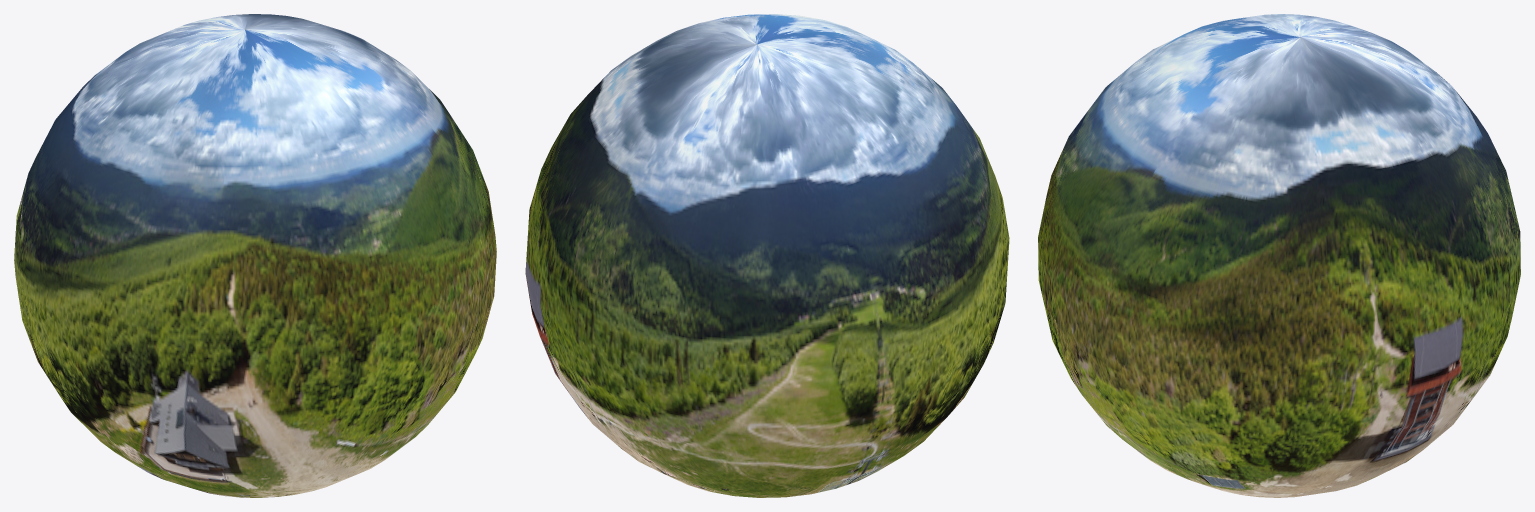
File: 360_panorama_12_vr_mountain_background_backdrop.glb
The picture shows the model from 3 angles, left to right: view 1: azimuth 30°, elevation 25°; view 2: azimuth 150°, elevation 25°; view 3: azimuth 270°, elevation 25°; orthographic projection.
Parts seen in each view (by area): view 1: pano_water_sky; view 2: pano_water_sky; view 3: pano_water_sky.
Part boxes in pixels (x1,y1,x2,y2): pano_water_sky: (14, 14, 496, 497); pano_water_sky: (525, 14, 1009, 497); pano_water_sky: (1038, 14, 1520, 497).
Bounding box in the file's own units: 8 × 7.97 × 7.97.
1 material, 1 textured.
